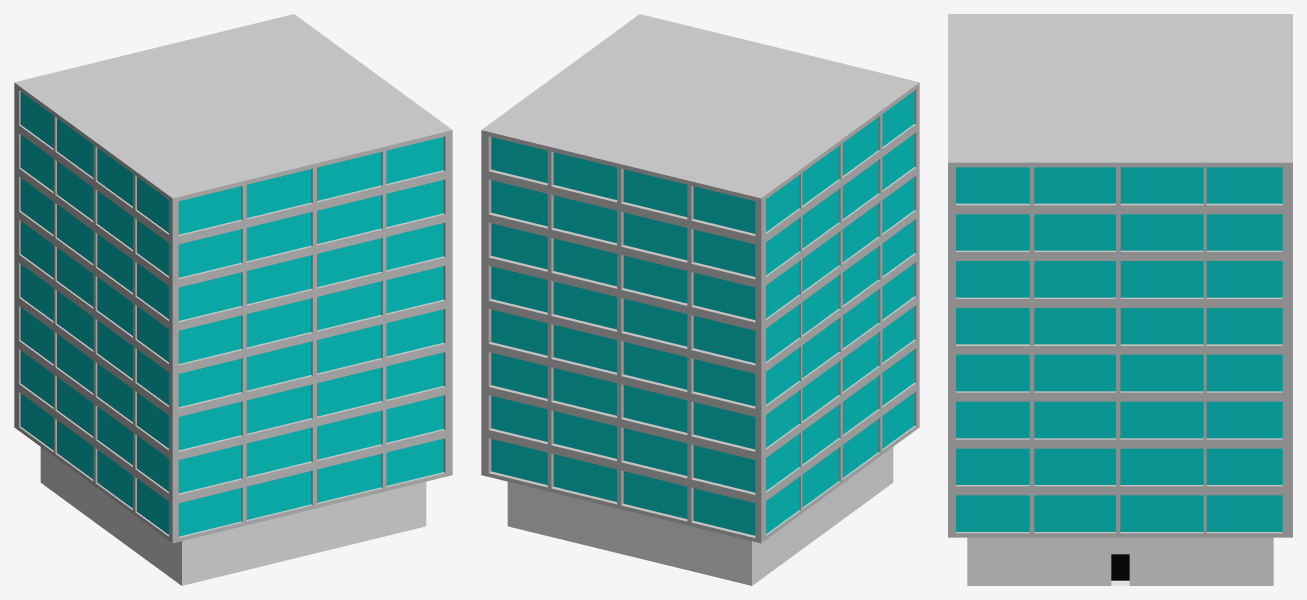
The model's file is Predio3.fbx.
3 views of the same model, side by side, from view 1: azimuth 30°, elevation 25°; view 2: azimuth 150°, elevation 25°; view 3: azimuth 270°, elevation 25° (orthographic). The views are drawn at different scales.
Visible parts, largest first — view 1: Cube, Cube.001; view 2: Cube, Cube.001; view 3: Cube, Cube.001.
Part boxes in pixels (x1,y1,x2,y2): Cube: (14, 14, 452, 543); Cube.001: (40, 447, 426, 585); Cube: (481, 14, 919, 543); Cube.001: (507, 447, 893, 585); Cube: (948, 14, 1292, 537); Cube.001: (967, 537, 1273, 585).
Size of the model in its own units: 229 by 312 by 225.
